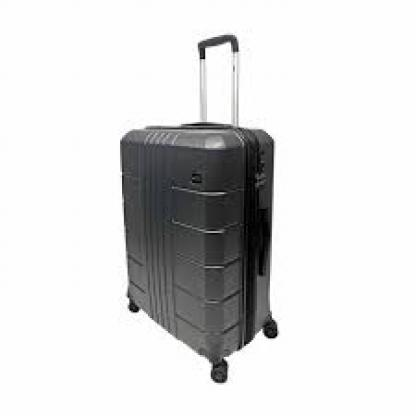maleta: (102, 116, 309, 387)
